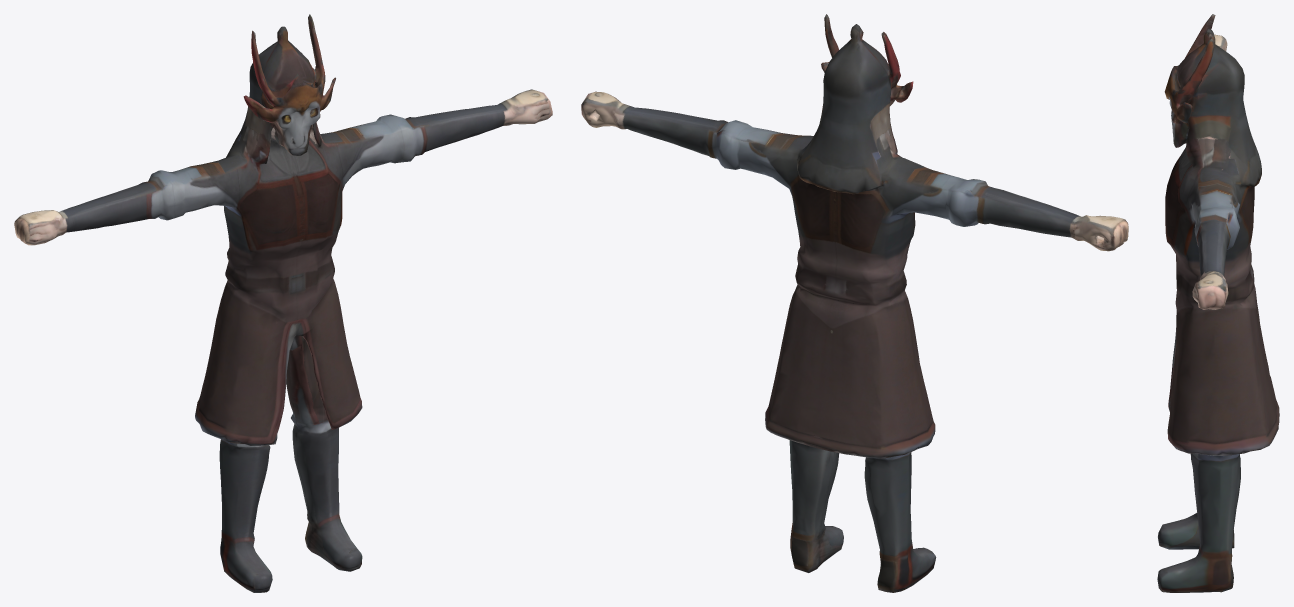
File: Meshy_AI_Wraith_Warrior_1228174124_texture.fbx
3 views of the same model, side by side, from view 1: azimuth 30°, elevation 25°; view 2: azimuth 150°, elevation 25°; view 3: azimuth 270°, elevation 25° (orthographic). The views are drawn at different scales.
Visible parts, largest first — view 1: Mesh_0; view 2: Mesh_0; view 3: Mesh_0.
Part boxes in pixels (x1=…): Mesh_0: x1=14, y1=14, x2=552, y2=592; Mesh_0: x1=581, y1=14, x2=1128, y2=592; Mesh_0: x1=1157, y1=14, x2=1279, y2=592.
Bounding box in the file's own units: 200 × 196 × 40.08.
Materials: 1 (1 with a texture image).
